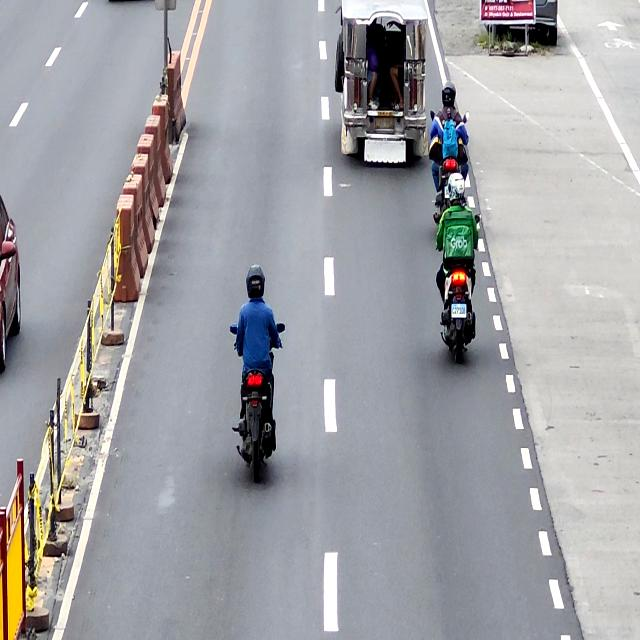Jeep: (335, 0, 429, 167)
License-Plate: (452, 303, 467, 319)
Motorcycle: (229, 320, 287, 483), (434, 210, 482, 365), (429, 108, 470, 225)
